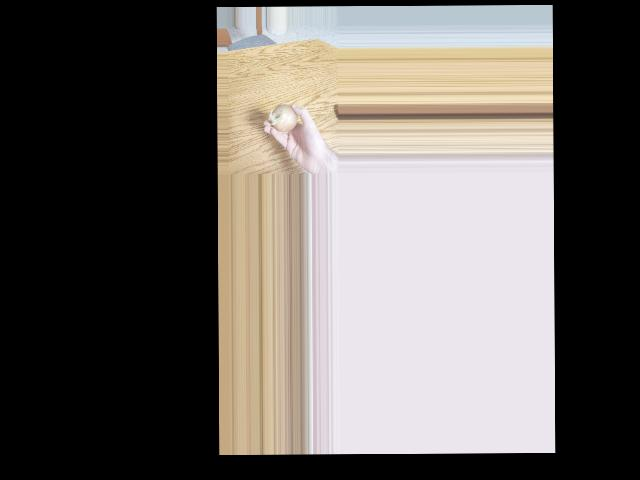onion: (272, 104, 298, 134)
